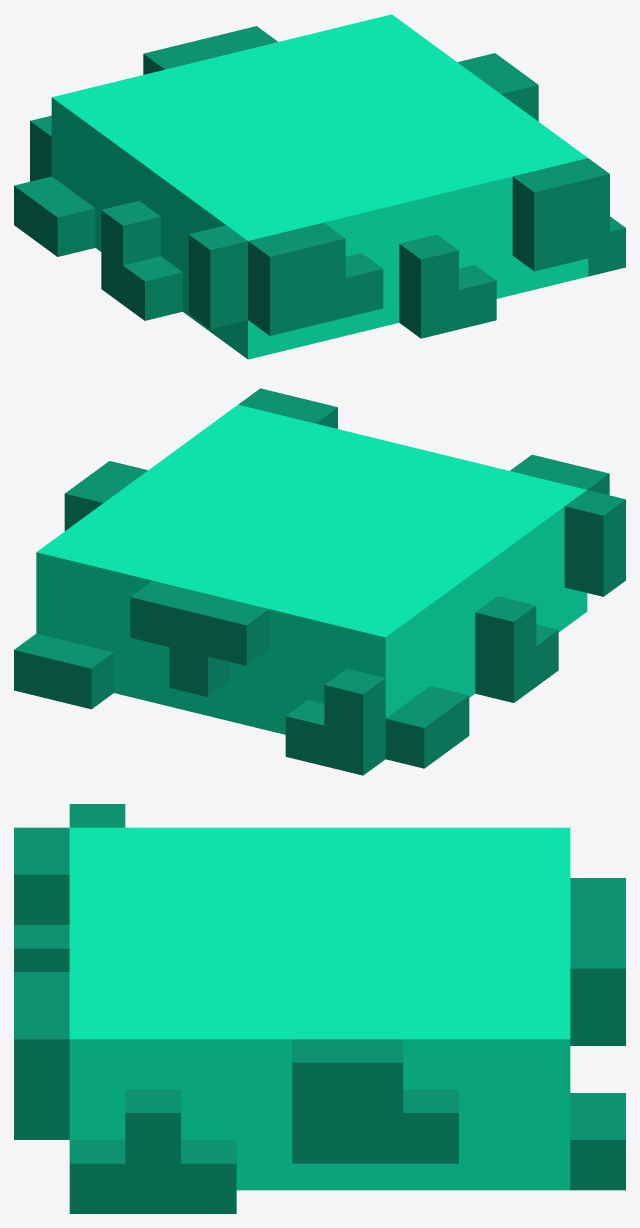
Rendered from MiddleBody.obj.
The picture shows the model from 3 angles, top to bottom: view 1: azimuth 30°, elevation 25°; view 2: azimuth 150°, elevation 25°; view 3: azimuth 270°, elevation 25°; orthographic projection. The views are drawn at different scales.
Bounding box in the file's own units: 11 × 3 × 11.
Materials: 1 (1 with a texture image).
